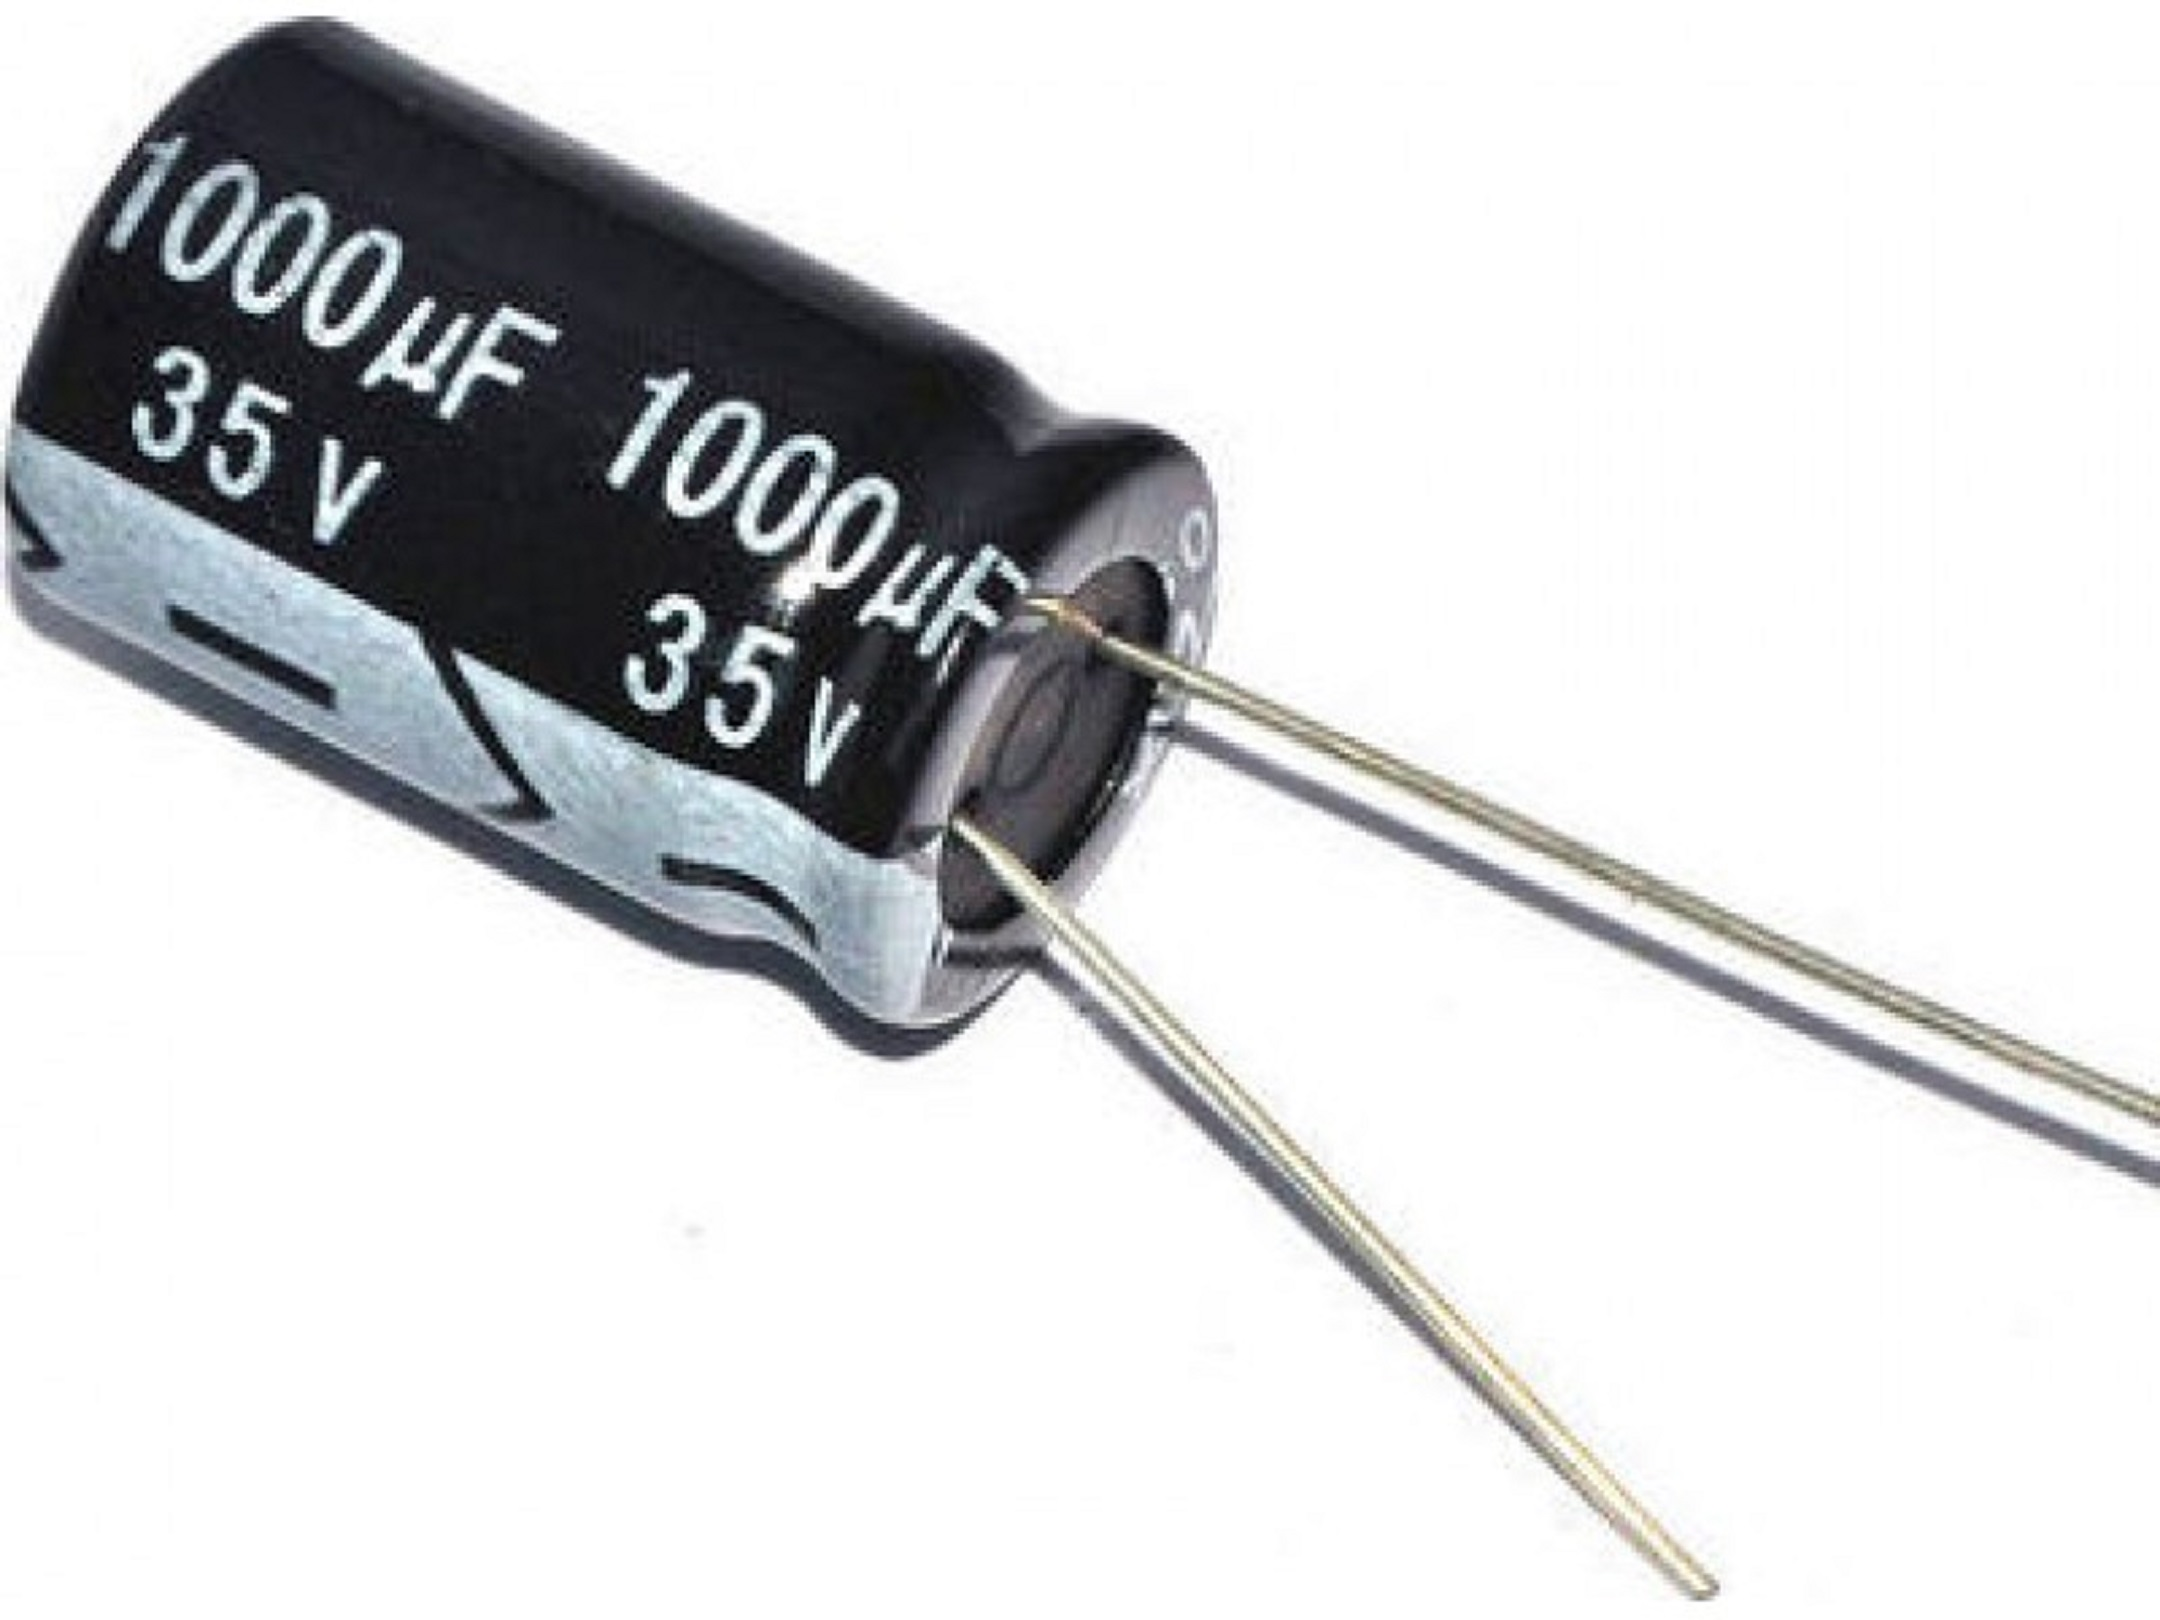capacitor: (14, 14, 1507, 1338)
